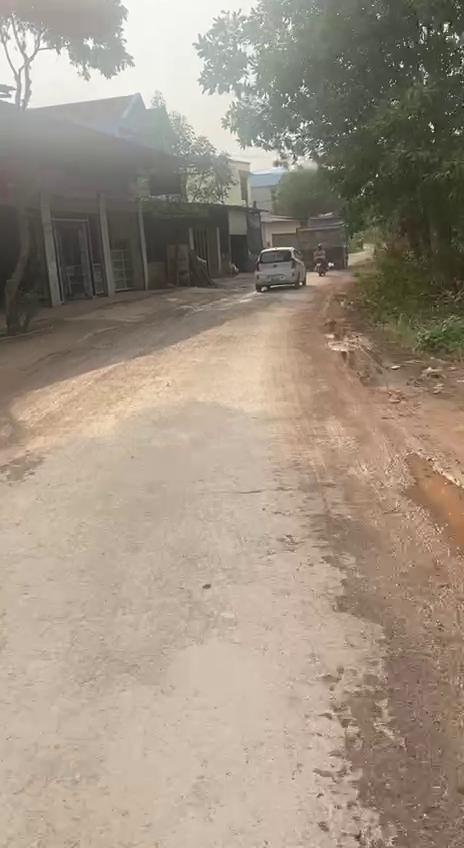pothole: (400, 450, 464, 555)
